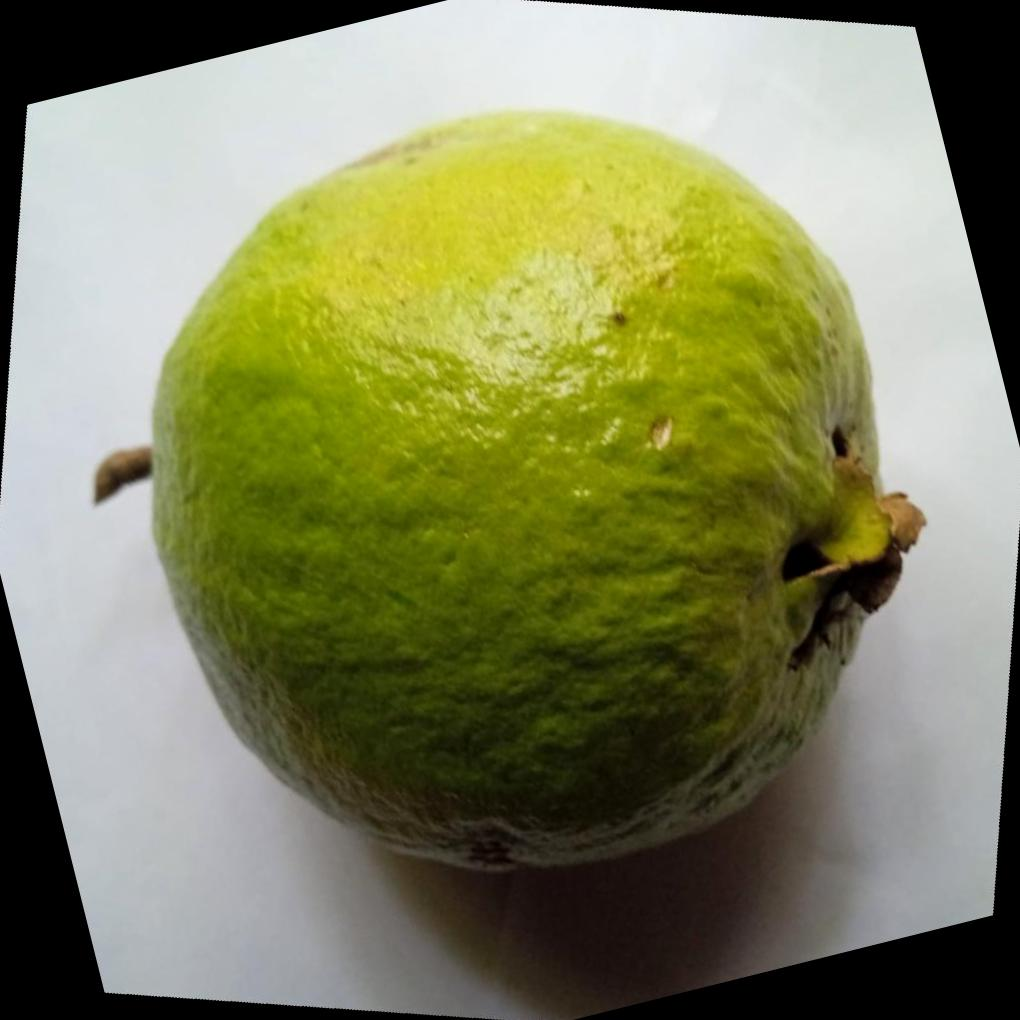FreshGuava: (148, 108, 925, 879)
